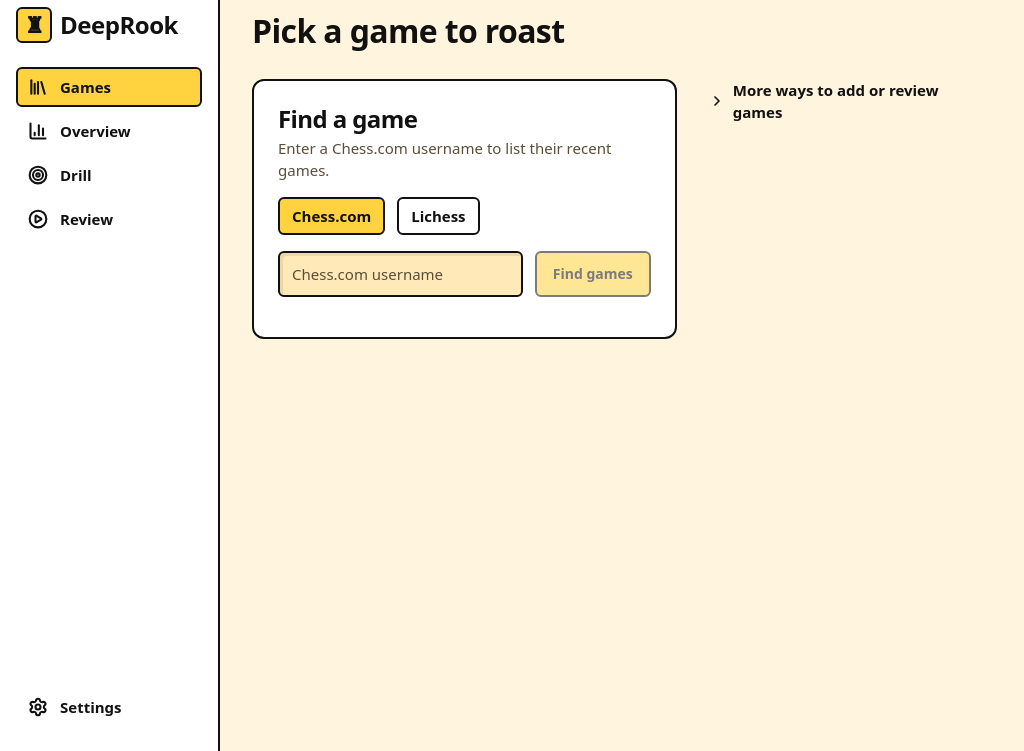
a staged game reviewed at this mode opens as it was
Type "Me" into the field labelled "Chess.com username" at (400, 274), box [278,251,523,297]
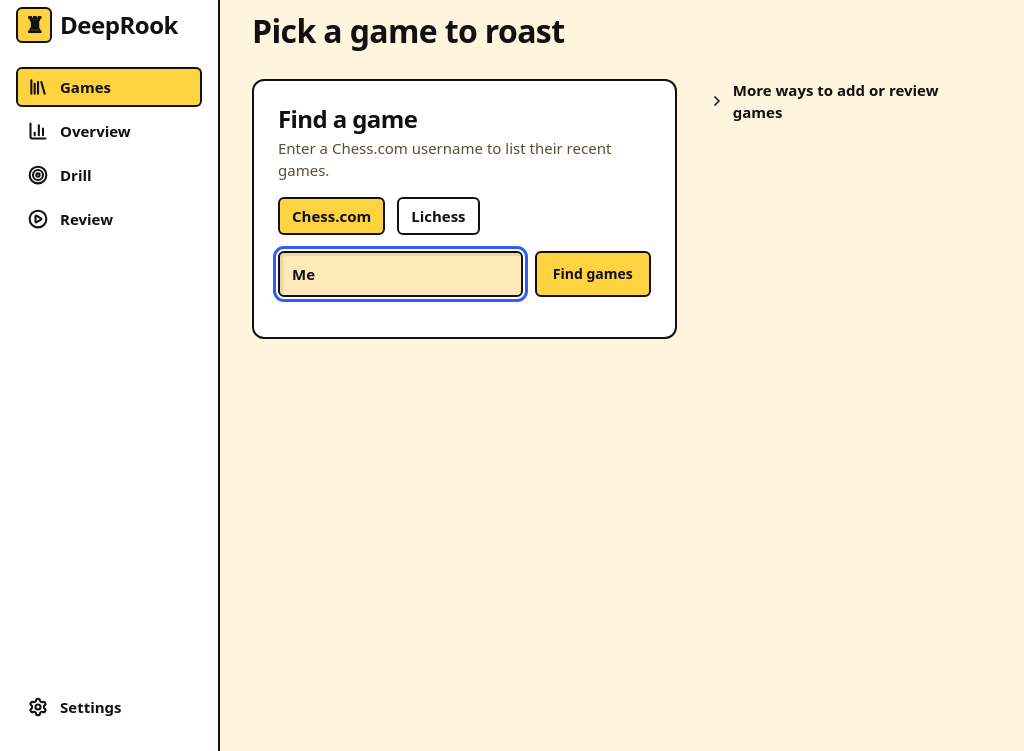
Click the button "Find games" at (593, 274), box [535,251,651,297]
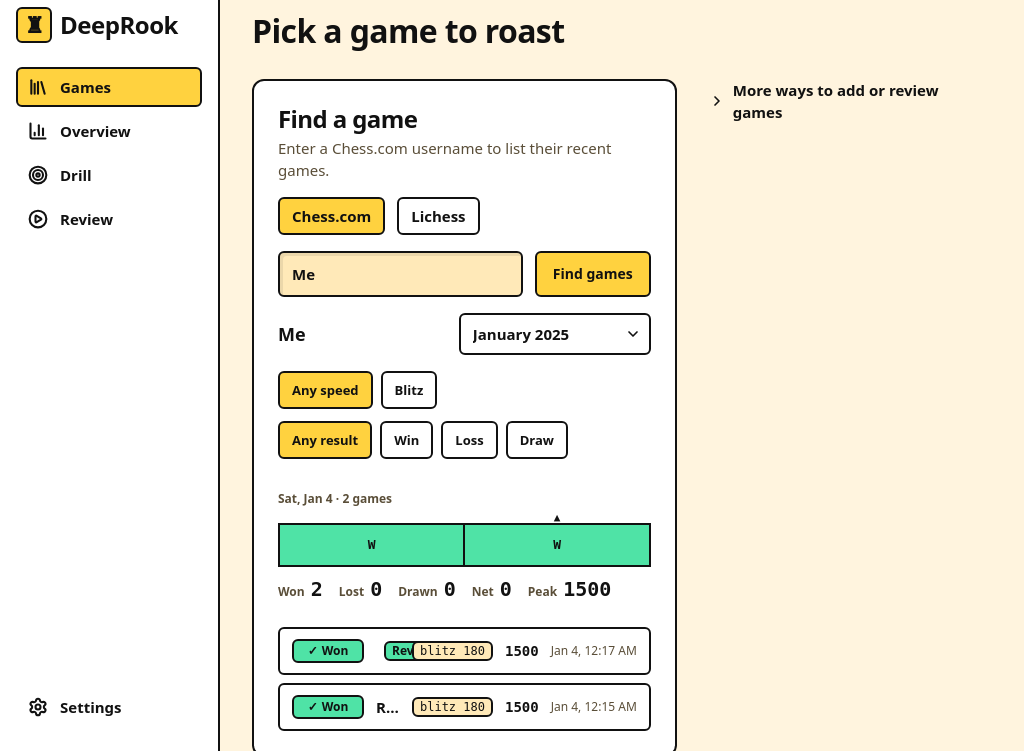
Click the button named "Rival3" at (464, 651), box [278,627,651,675]
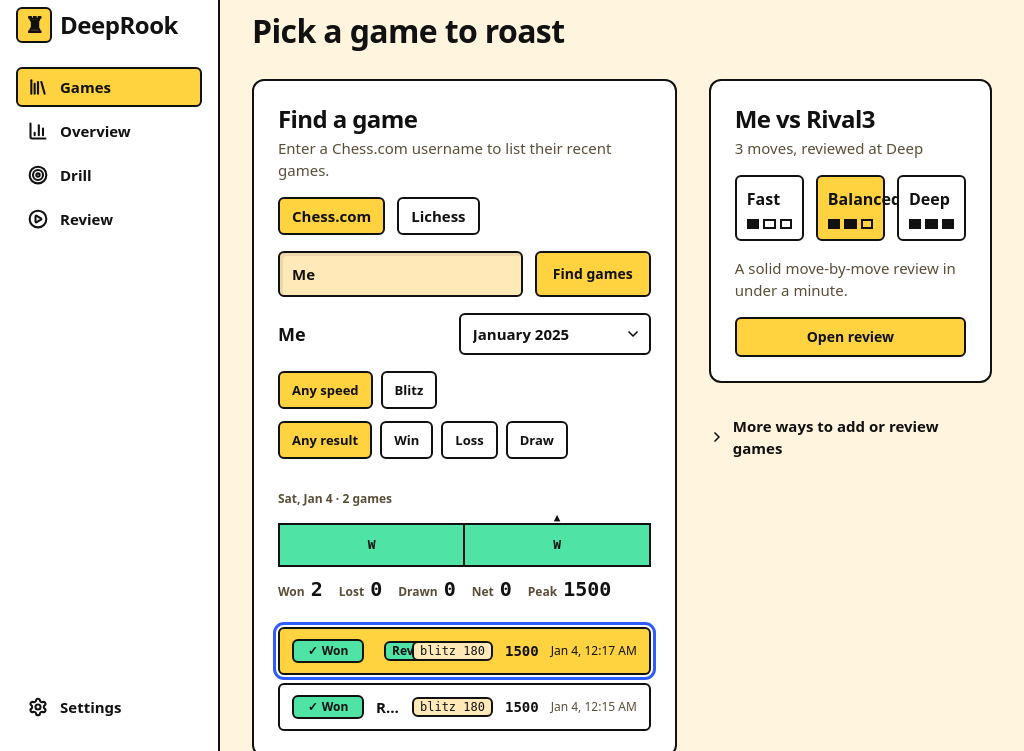
Expected: the text "3 moves, reviewed at Deep" is shown, [735,138,923,158]
Click the button "Open review" at (850, 337), box [735,317,966,357]
(page scrolled)
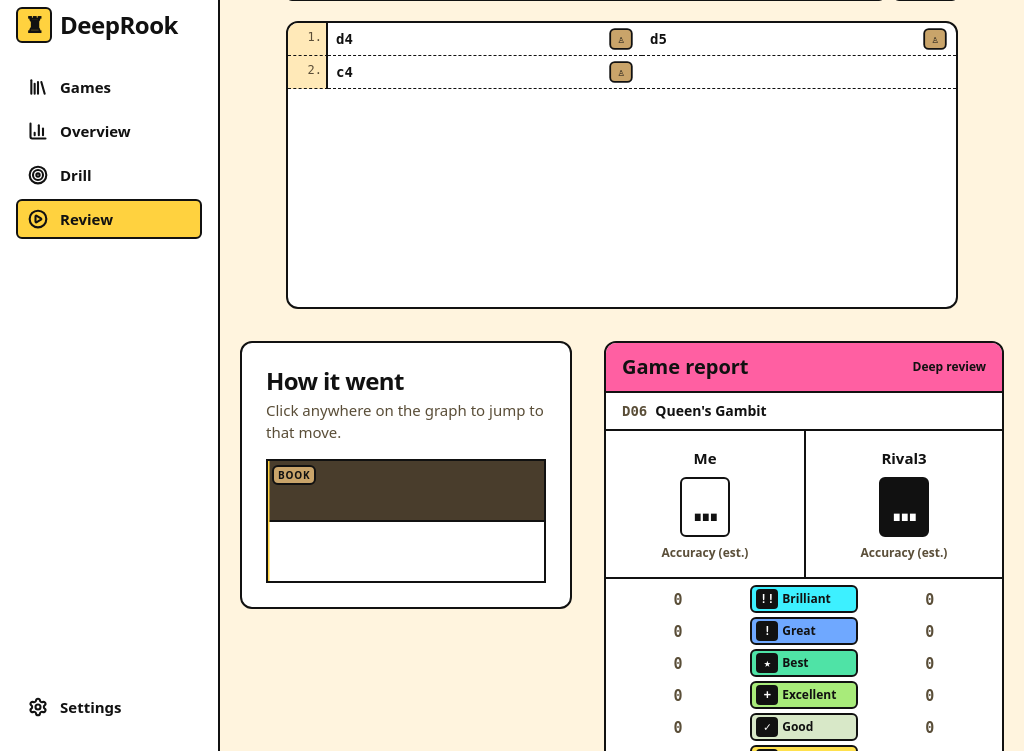
Expected: the text "Deep review" is shown, [912,359,986,375]
